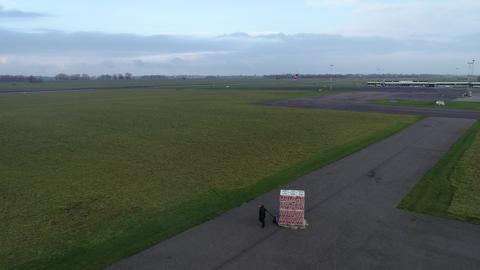RockwoolPallet: (278, 189, 308, 228)
